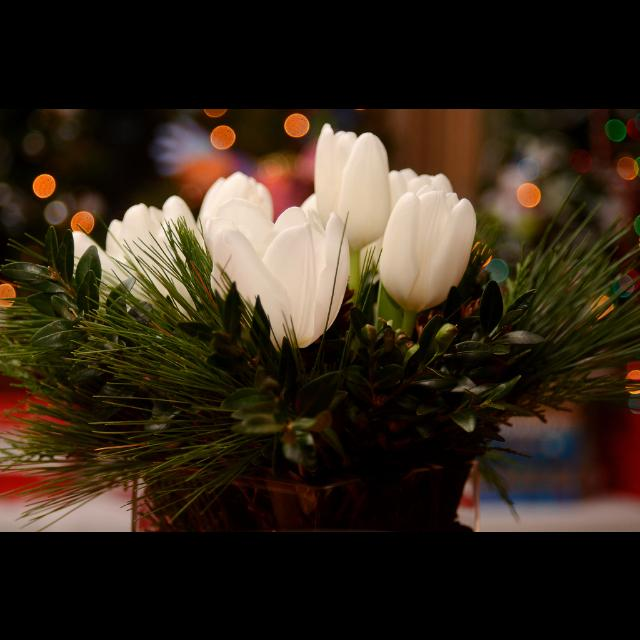Flower: (66, 122, 420, 352), (372, 170, 482, 318)
